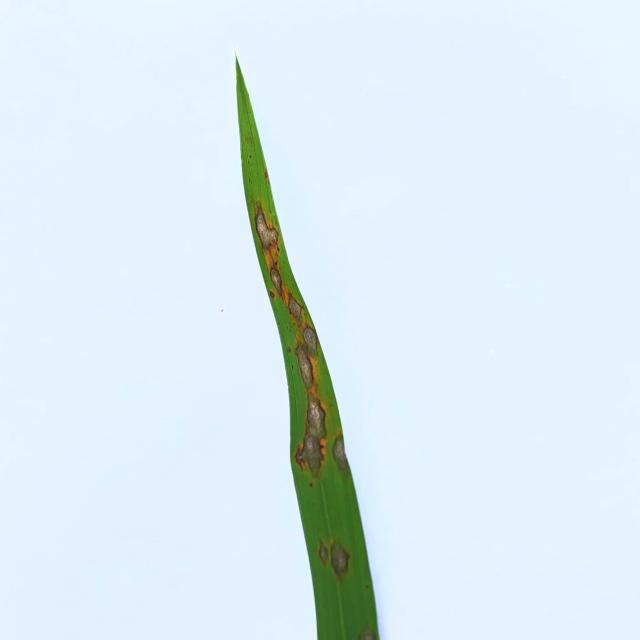leaf blast: (294, 393, 327, 478), (254, 202, 282, 250), (316, 542, 351, 578), (293, 342, 313, 391), (332, 433, 351, 475), (302, 326, 320, 359), (286, 290, 304, 322), (269, 267, 286, 300), (356, 629, 377, 640)
